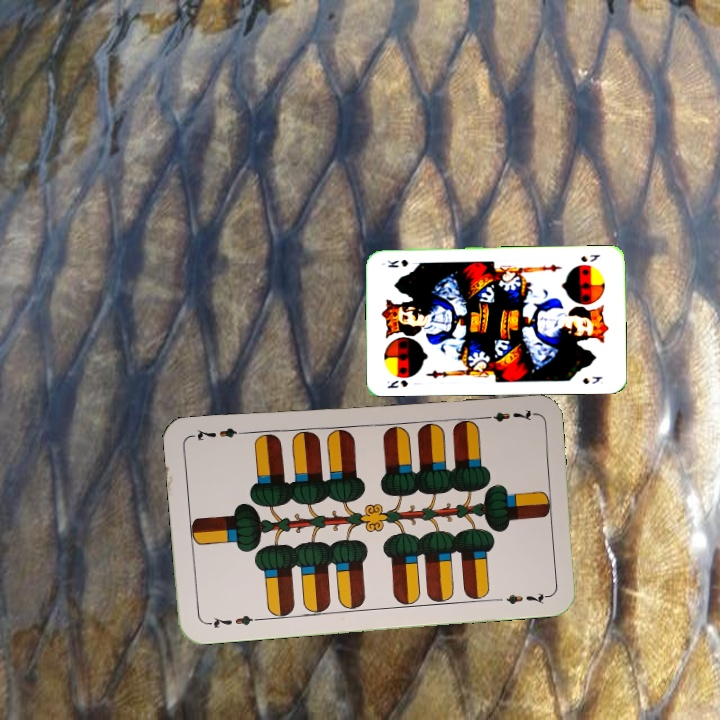E7: (202, 611, 261, 631), (477, 406, 536, 425)
SK: (383, 376, 410, 391), (577, 251, 602, 265)
